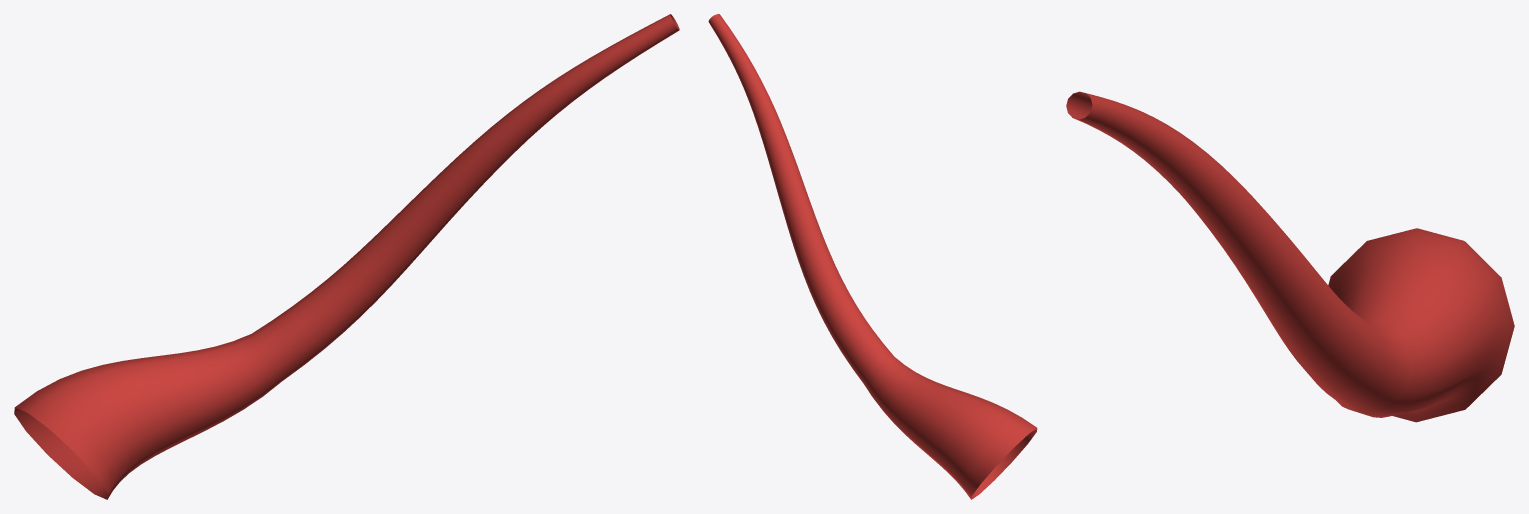
3 renders of one model, left to right at view 1: azimuth 30°, elevation 25°; view 2: azimuth 150°, elevation 25°; view 3: azimuth 270°, elevation 25°, orthographic. The views are drawn at different scales.
Visible parts, largest first — view 1: 左侧肾动脉前支; view 2: 左侧肾动脉前支; view 3: 左侧肾动脉前支.
Part boxes in pixels (x1,y1,x2,y2): 左侧肾动脉前支: (14,14,679,499); 左侧肾动脉前支: (708,14,1037,499); 左侧肾动脉前支: (1066,91,1514,422).
Size of the model in its own units: 0.0486 by 0.0386 by 0.0234.
